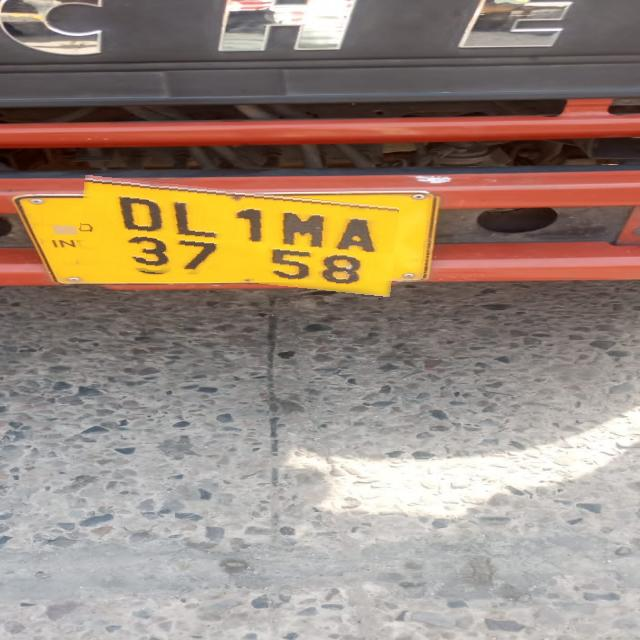License-plate: (78, 183, 397, 289)
